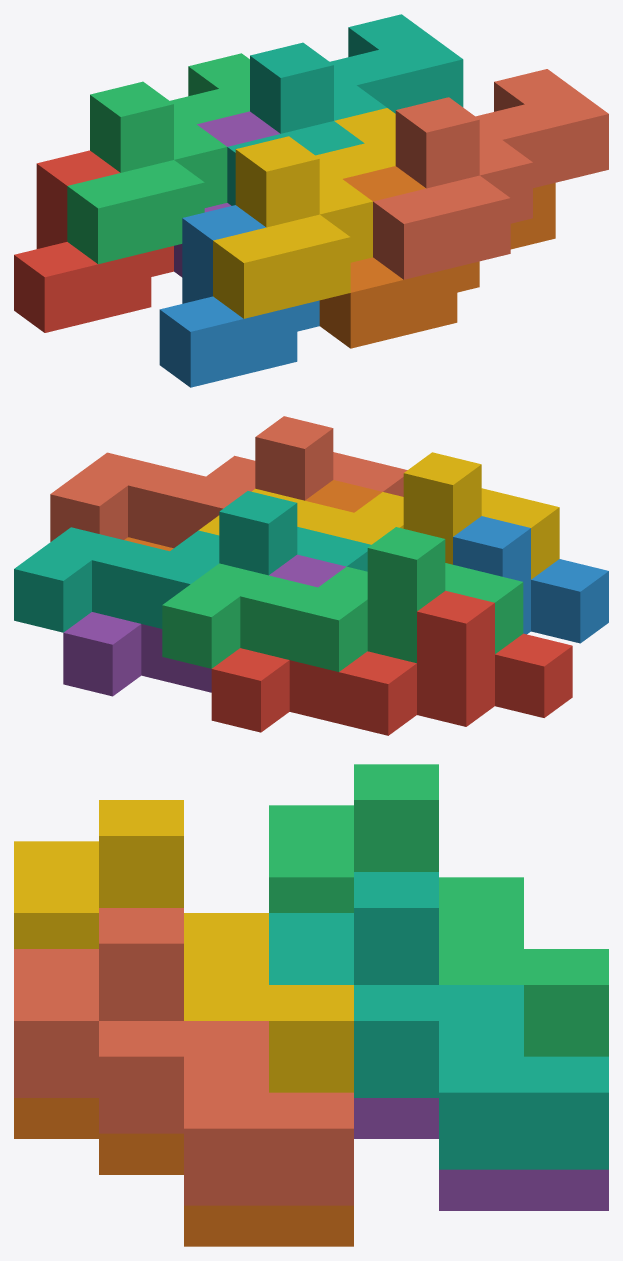
File: tiling.obj
3 renders of one model, top to bottom at view 1: azimuth 30°, elevation 25°; view 2: azimuth 150°, elevation 25°; view 3: azimuth 270°, elevation 25°, orthographic. The views are drawn at different scales.
Parts seen in each view (by area): view 1: copy_1_domain_8, copy_1_domain_4, copy_1_domain_3, copy_1_domain_7, copy_1_domain_1, copy_1_domain_2, copy_1_domain_6, copy_1_domain_5; view 2: copy_1_domain_3, copy_1_domain_1, copy_1_domain_7, copy_1_domain_8, copy_1_domain_4, copy_1_domain_2, copy_1_domain_5, copy_1_domain_6; view 3: copy_1_domain_8, copy_1_domain_7, copy_1_domain_3, copy_1_domain_4, copy_1_domain_6, copy_1_domain_5.
Part boxes in pixels (box(x1,y1,x2,y2)): copy_1_domain_8: box(373, 69, 608, 279); copy_1_domain_4: box(213, 108, 395, 318); copy_1_domain_3: box(67, 53, 249, 264); copy_1_domain_7: box(227, 14, 463, 205); copy_1_domain_1: box(14, 150, 173, 332); copy_1_domain_2: box(159, 205, 319, 387); copy_1_domain_6: box(319, 166, 555, 348); copy_1_domain_5: box(174, 111, 280, 277); copy_1_domain_3: box(162, 527, 523, 671); copy_1_domain_1: box(211, 590, 572, 735); copy_1_domain_7: box(14, 491, 370, 632); copy_1_domain_8: box(50, 416, 407, 548); copy_1_domain_4: box(198, 452, 559, 579); copy_1_domain_2: box(453, 516, 608, 643); copy_1_domain_5: box(63, 554, 346, 696); copy_1_domain_6: box(124, 480, 382, 551); copy_1_domain_8: box(14, 908, 353, 1205); copy_1_domain_7: box(269, 872, 608, 1169); copy_1_domain_3: box(269, 764, 608, 1056); copy_1_domain_4: box(14, 800, 353, 1092); copy_1_domain_6: box(14, 1098, 353, 1246); copy_1_domain_5: box(354, 1098, 608, 1210).
Size of the model in its own units: 10 by 3 by 7.
